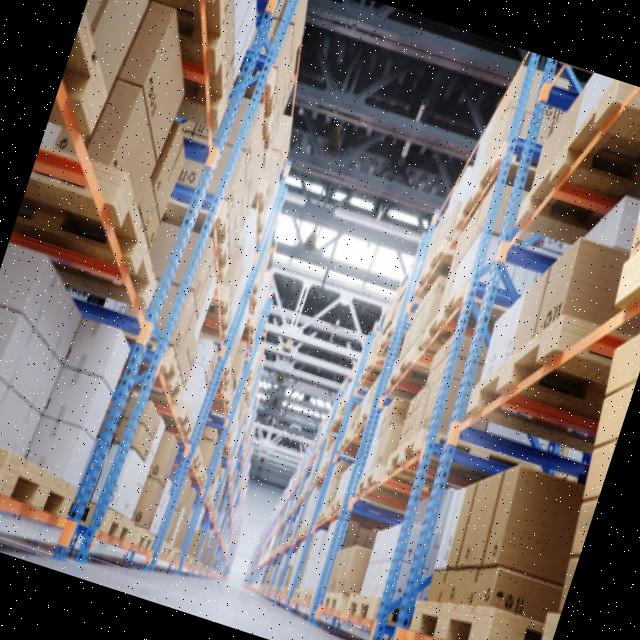Wooden-Pallets: (107, 167, 167, 323), (0, 445, 77, 519), (380, 423, 430, 486), (97, 498, 142, 563)
